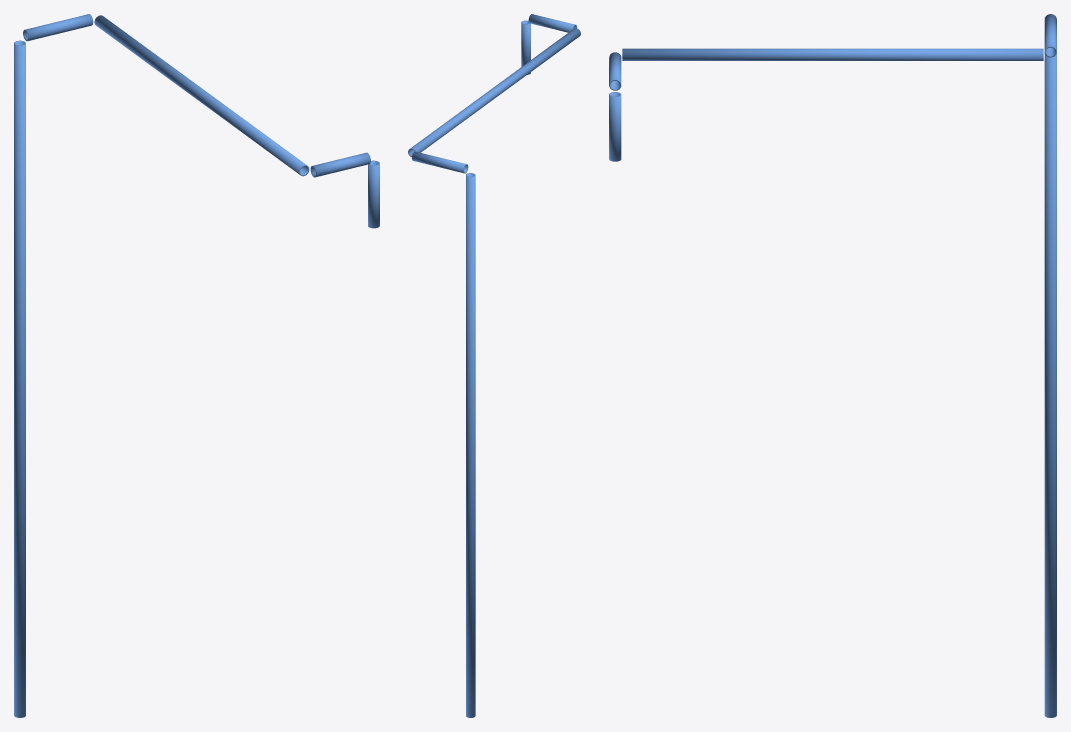
Rendered from slab_pipes_supply__water-city_filter_and_softener-yes_and_plumbing-pex+attic_repipe+pex_branch__r4t.glb.
3 views of the same model, side by side, from view 1: azimuth 30°, elevation 25°; view 2: azimuth 150°, elevation 25°; view 3: azimuth 270°, elevation 25° (orthographic). The views are drawn at different scales.
Visible parts, largest first — view 1: pipe_supply_to_softener__pex; view 2: pipe_supply_to_softener__pex; view 3: pipe_supply_to_softener__pex.
Boxes of the visible parts, x1,y1,x2,y2 form: pipe_supply_to_softener__pex: [14, 14, 379, 717]; pipe_supply_to_softener__pex: [408, 14, 580, 717]; pipe_supply_to_softener__pex: [609, 14, 1056, 717].
Size of the model in its own units: 0.3252 by 1.39 by 0.8013.
